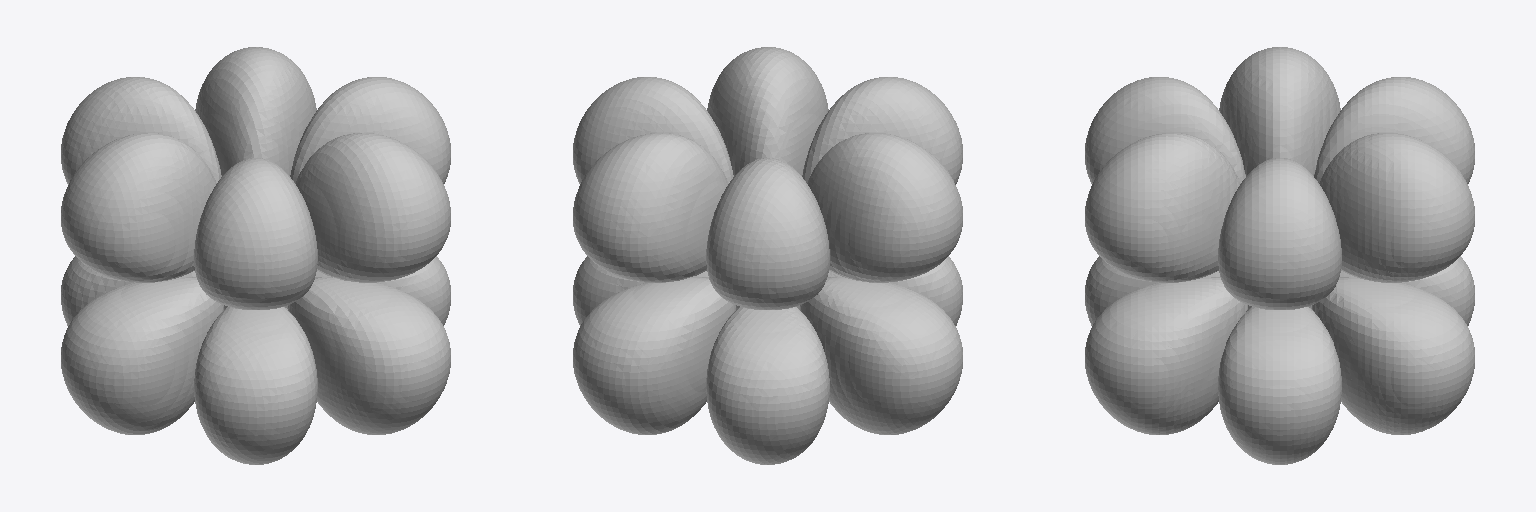
The model's file is orb_n=5_ l=4 _m=3.obj.
3 renders of one model, left to right at view 1: azimuth 30°, elevation 25°; view 2: azimuth 150°, elevation 25°; view 3: azimuth 270°, elevation 25°, orthographic.
Visible parts, largest first — view 1: orb_n=5__l=4__m=3; view 2: orb_n=5__l=4__m=3; view 3: orb_n=5__l=4__m=3.
Boxes of the visible parts, x1,y1,x2,y2 form: orb_n=5__l=4__m=3: [61, 47, 450, 464]; orb_n=5__l=4__m=3: [573, 47, 962, 464]; orb_n=5__l=4__m=3: [1085, 47, 1474, 464].
Bounding box in the file's own units: 88.9 × 66.85 × 80.82.